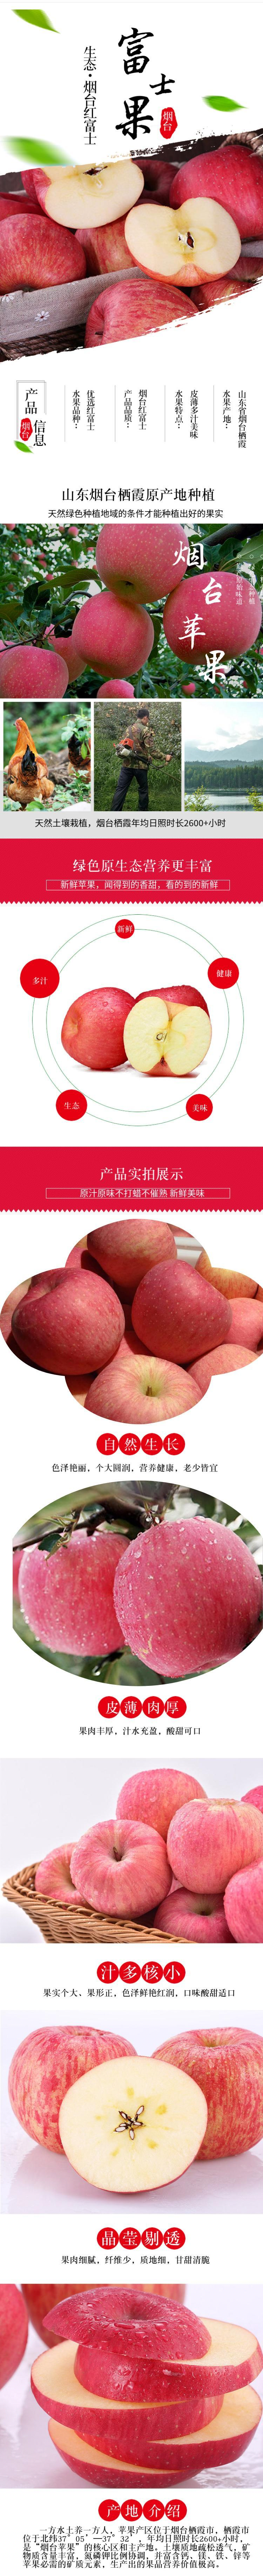apple: (31, 2287, 261, 2489), (115, 1516, 263, 1679), (58, 2055, 207, 2193), (8, 2026, 138, 2154), (148, 2027, 263, 2162), (18, 1531, 130, 1656), (8, 1267, 125, 1377), (122, 197, 243, 286), (131, 1258, 232, 1362), (71, 1819, 173, 1919), (166, 1797, 263, 1893), (164, 572, 261, 665), (169, 145, 263, 238), (23, 161, 143, 230), (82, 278, 202, 347), (85, 1354, 202, 1423), (94, 524, 191, 605), (69, 591, 153, 680), (0, 212, 85, 297), (123, 996, 212, 1076), (117, 1769, 209, 1842), (85, 1219, 179, 1285), (61, 987, 133, 1070), (151, 1886, 233, 1944), (35, 1843, 92, 1909), (2, 644, 69, 698), (224, 1856, 263, 1944)
